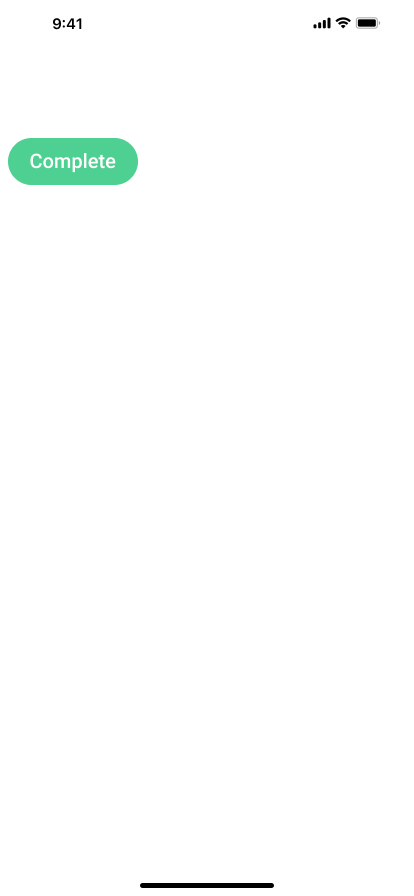Buttons: (8, 138, 138, 185)
Home Indicator: (0, 862, 414, 896)
Status Bar: (0, 0, 414, 44)
